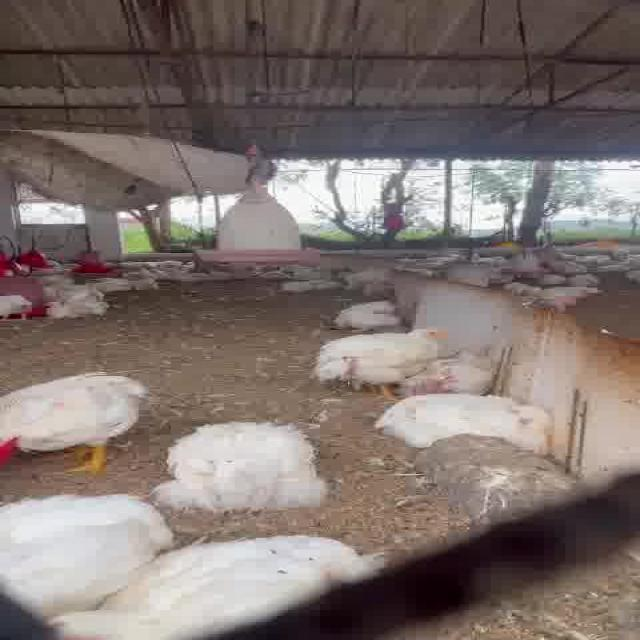AbNormal: (62, 533, 358, 640), (0, 490, 167, 584), (165, 418, 334, 507), (386, 394, 542, 444), (412, 352, 509, 393), (320, 300, 410, 328)
Normal: (0, 374, 160, 469), (316, 328, 452, 394)
